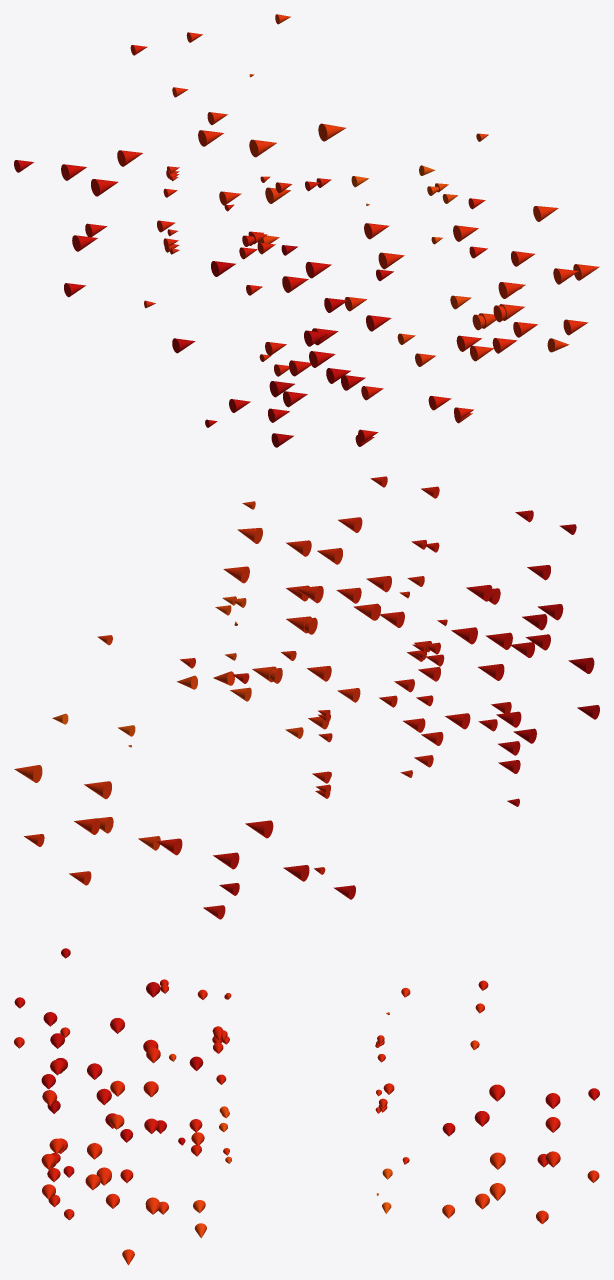
Rendered from LineasCorrienteH2-O2_mh2-8.20_V-1.1.glb.
The picture shows the model from 3 angles, top to bottom: view 1: azimuth 30°, elevation 25°; view 2: azimuth 150°, elevation 25°; view 3: azimuth 270°, elevation 25°; orthographic projection. The views are drawn at different scales.
Bounding box in the file's own units: 0.000787 × 0.000482 × 0.00123.
Materials: 2 (2 with a texture image).
